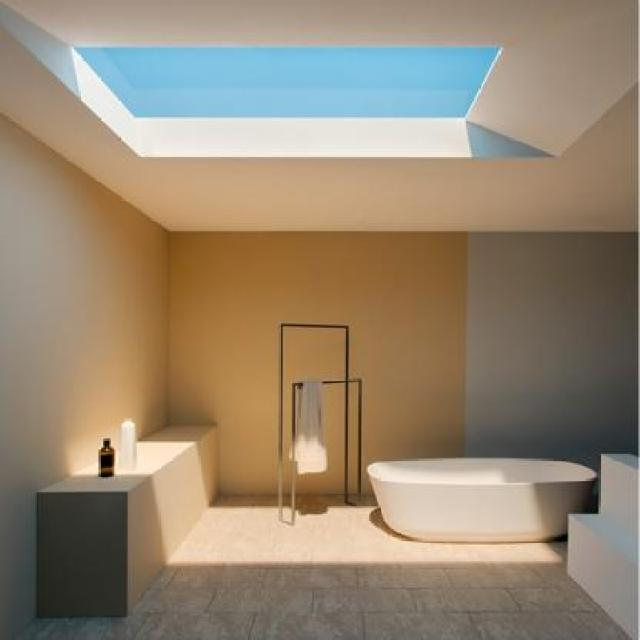floor: (0, 493, 636, 639)
